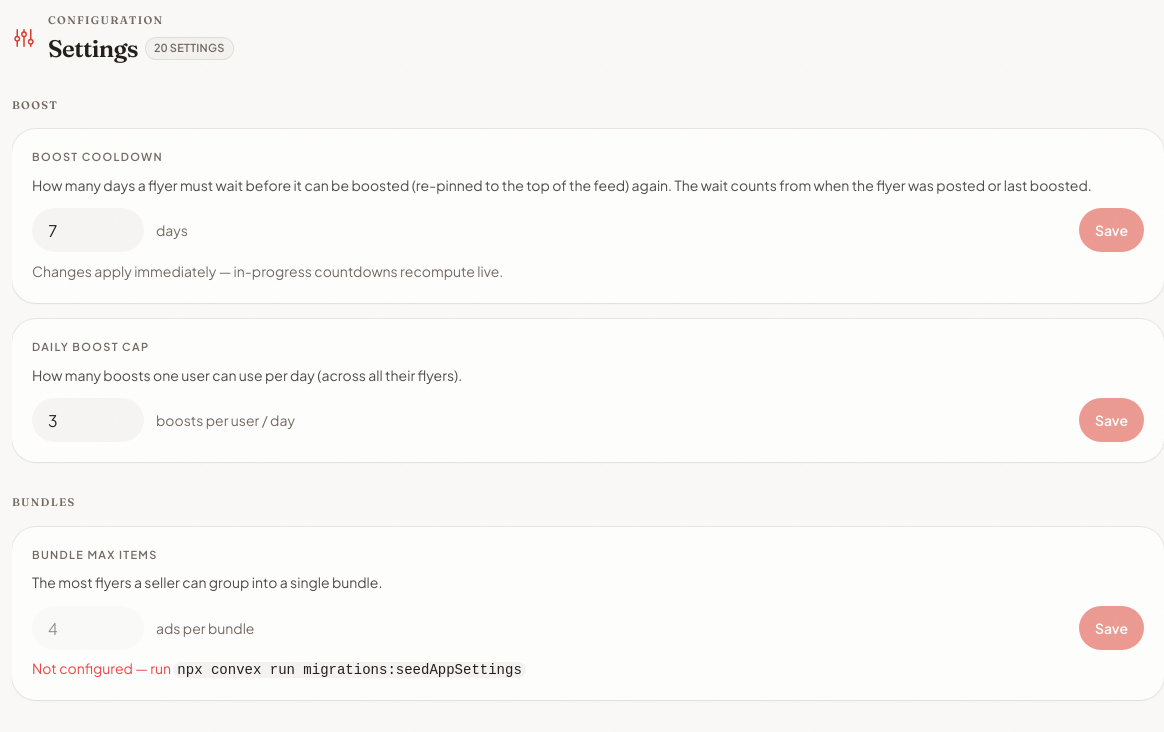
Test: SettingsTab › disables Save until the value changes
Check: the 1st button "Save" is disabled, box [1079,208,1144,252]
Replace the text in the number field labelled "Boost cooldown" with "10": (88,230) [32,208,144,252]
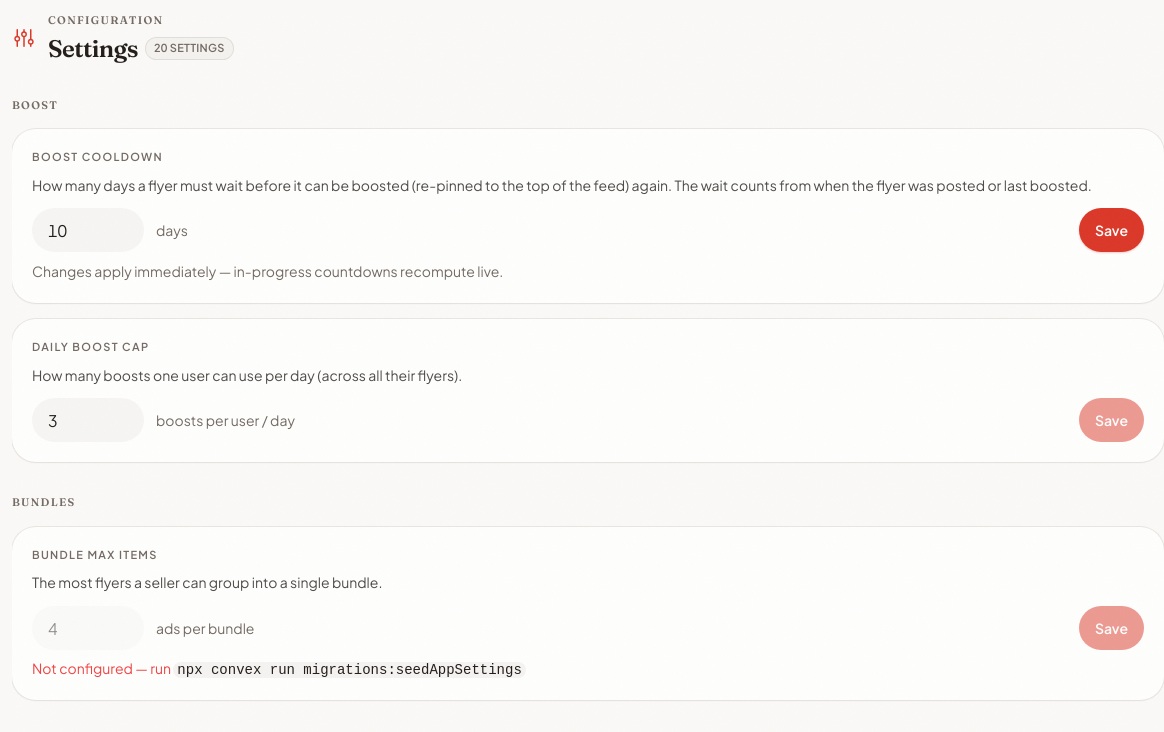
Check: the 1st button "Save" is enabled, box [1079,208,1144,252]
